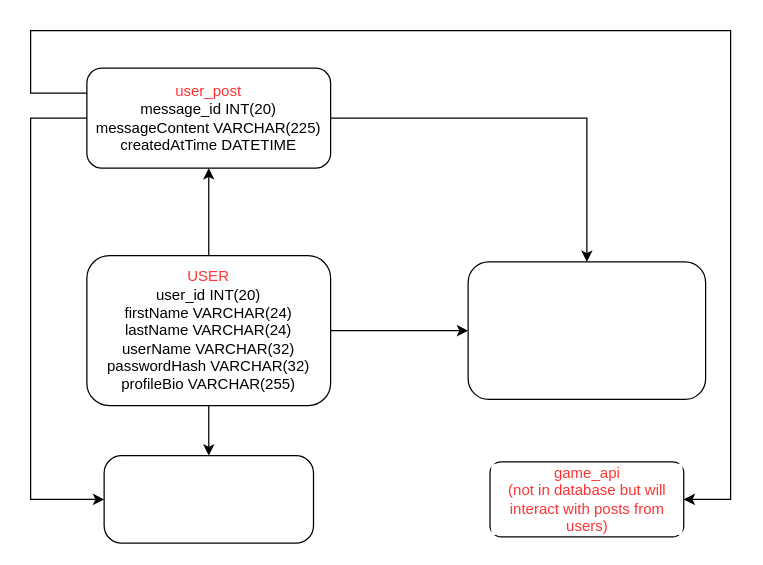
The diagram is 763 pixels wide and 565 high, and some of its shapes have lost their labels. The shapes that lost their labels are listed below. From the top down, each one's box as (x1, y1, x2, y2) in pixels, then its label:
(467, 261, 706, 399): userGame game_id INT(20) gameName VARCHAR(32) gameRank VARCHAR(12)
(103, 454, 314, 543): user_game_followed followed_id INT(20) gameName VARCHAR(64)
